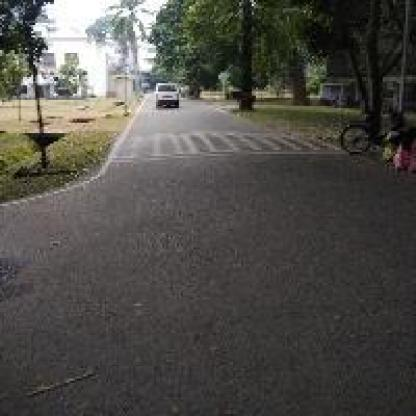Speed Bump: (110, 127, 339, 164)
